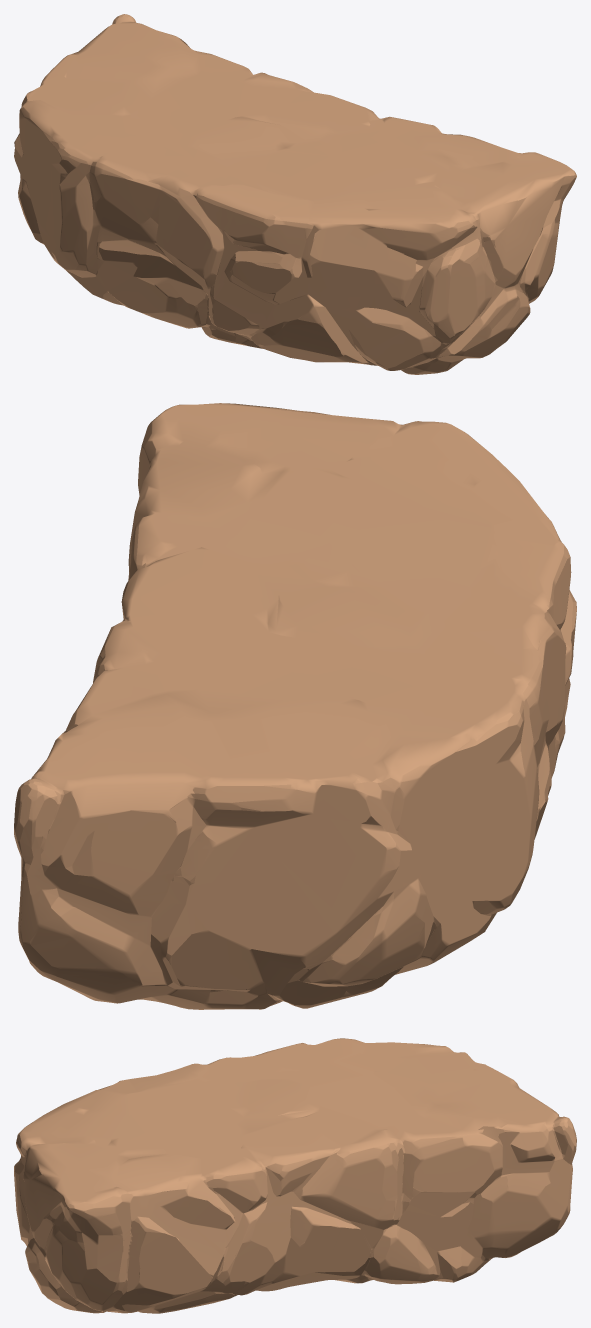
3 views of the same model, one above another, from view 1: azimuth 30°, elevation 25°; view 2: azimuth 150°, elevation 25°; view 3: azimuth 270°, elevation 25° (orthographic). The views are drawn at different scales.
Visible parts, largest first — view 1: Mesh_4_LOD0; view 2: Mesh_4_LOD0; view 3: Mesh_4_LOD0.
Part boxes in pixels (bbox=[...]): Mesh_4_LOD0: bbox=[14, 14, 576, 374]; Mesh_4_LOD0: bbox=[14, 403, 576, 1009]; Mesh_4_LOD0: bbox=[14, 1038, 576, 1313].
Size of what is drawn, in the model's own units: 3911 by 1764 by 5525.
